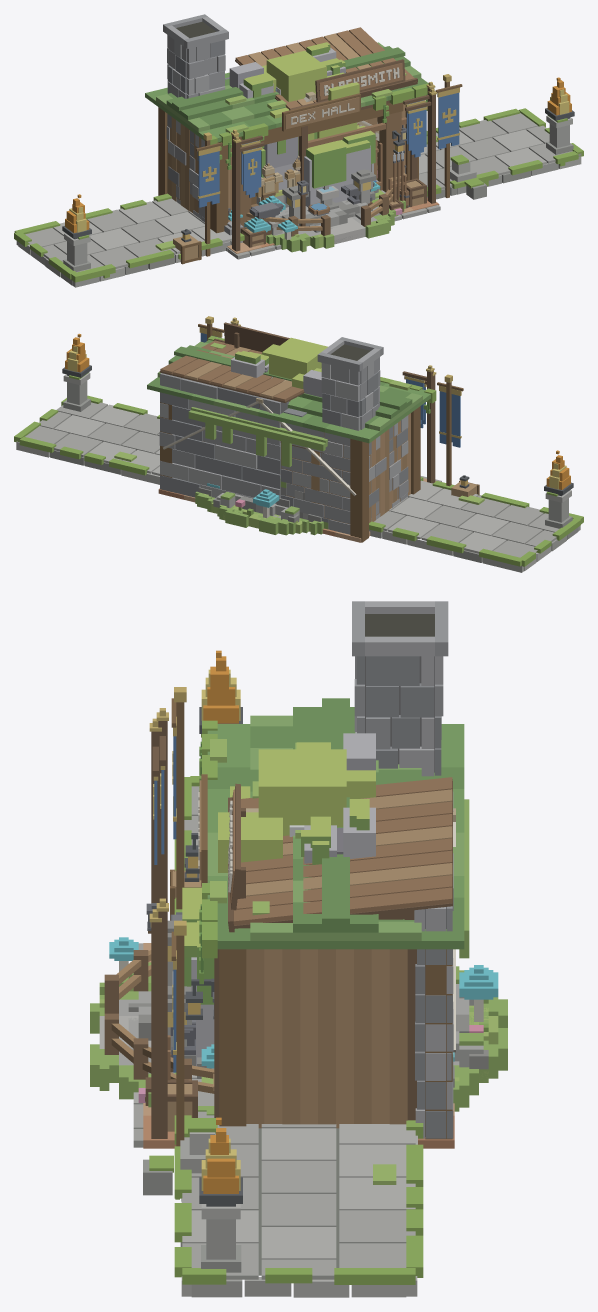
Rendered from lobby_kit_roblox.glb.
3 views of the same model, one above another, from view 1: azimuth 30°, elevation 25°; view 2: azimuth 150°, elevation 25°; view 3: azimuth 270°, elevation 25° (orthographic). The views are drawn at different scales.
Visible parts, largest first — view 1: DexHall, PortalTerrace, Blacksmith, GearStation, LobbyTree, EggHatchery, CliffBlock, Waterfall, PortalTerrace_Glow, SpawnCampfire, EggHatchery_Glow, SpawnCampfire_Glow; view 2: Blacksmith, PortalTerrace, DexHall, EggHatchery, LobbyTree, SpawnCampfire, Waterfall, PortalTerrace_Glow, GearStation, SpawnCampfire_Glow; view 3: DexHall, Blacksmith, PortalTerrace, EggHatchery, LobbyTree, Waterfall, GearStation, PortalTerrace_Glow, SpawnCampfire, SpawnCampfire_Glow, CliffBlock.
Part boxes in pixels (x1=…): DexHall: x1=145, y1=42, x2=486, y2=264; PortalTerrace: x1=14, y1=108, x2=583, y2=287; Blacksmith: x1=163, y1=14, x2=439, y2=253; GearStation: x1=228, y1=88, x2=436, y2=251; LobbyTree: x1=245, y1=50, x2=375, y2=188; EggHatchery: x1=246, y1=157, x2=405, y2=252; CliffBlock: x1=263, y1=137, x2=370, y2=207; Waterfall: x1=229, y1=42, x2=345, y2=98; PortalTerrace_Glow: x1=65, y1=77, x2=571, y2=232; SpawnCampfire: x1=282, y1=142, x2=380, y2=243; EggHatchery_Glow: x1=228, y1=186, x2=335, y2=232; SpawnCampfire_Glow: x1=259, y1=180, x2=380, y2=211; Blacksmith: x1=158, y1=317, x2=435, y2=542; PortalTerrace: x1=14, y1=365, x2=583, y2=572; DexHall: x1=147, y1=316, x2=479, y2=542; EggHatchery: x1=188, y1=407, x2=328, y2=535; LobbyTree: x1=262, y1=337, x2=327, y2=388; SpawnCampfire: x1=211, y1=491, x2=311, y2=533; Waterfall: x1=231, y1=351, x2=322, y2=397; PortalTerrace_Glow: x1=65, y1=333, x2=570, y2=489; GearStation: x1=163, y1=323, x2=436, y2=496; SpawnCampfire_Glow: x1=207, y1=483, x2=279, y2=507; DexHall: x1=133, y1=687, x2=464, y2=1195; Blacksmith: x1=143, y1=601, x2=454, y2=1148; PortalTerrace: x1=174, y1=707, x2=423, y2=1297; EggHatchery: x1=90, y1=799, x2=507, y2=1115; LobbyTree: x1=182, y1=749, x2=375, y2=1004; Waterfall: x1=289, y1=733, x2=375, y2=864; GearStation: x1=145, y1=718, x2=455, y2=1138; PortalTerrace_Glow: x1=201, y1=650, x2=240, y2=1193; SpawnCampfire: x1=128, y1=920, x2=498, y2=1082; SpawnCampfire_Glow: x1=167, y1=946, x2=498, y2=1068; CliffBlock: x1=184, y1=922, x2=214, y2=1066.
Bounding box in the file's own units: 15.16 × 5 × 5.38.
